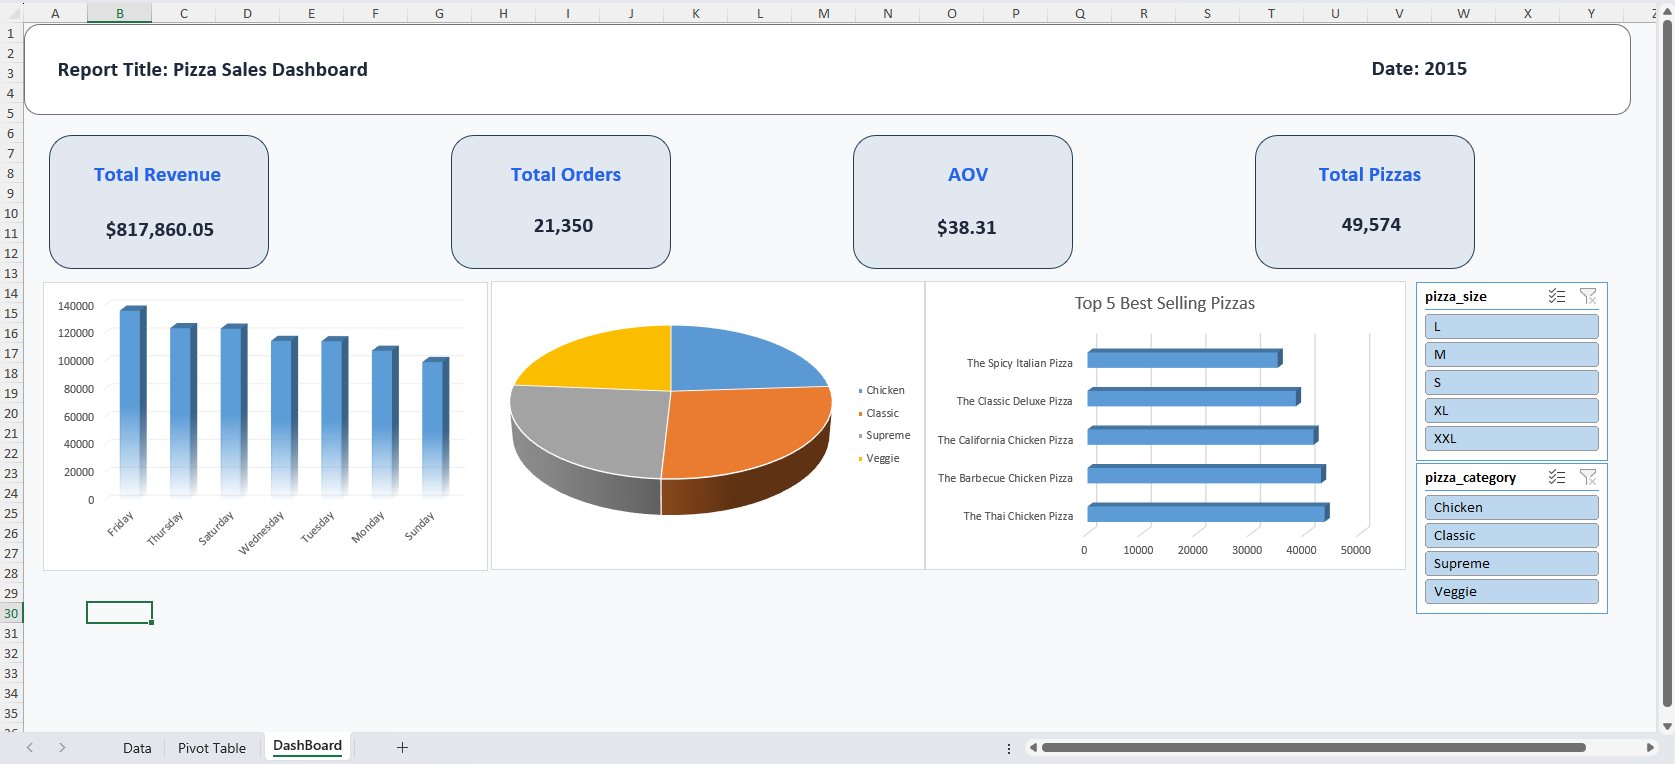

The page's visual inventory and layout, read from the dashboard file:
{"tool":"powerbi","page":{"name":"Dashboard","canvas":[1280,720],"ordinal":0},"visuals":[{"type":"shape","box":[10.3,0,1269.7,138.9],"z":0},{"type":"textbox","title":"Report Title: Pizza Sales","box":[30.9,49.4,435.2,40.1],"z":1000},{"type":"textbox","title":"Date: 2015","box":[1107.1,54.5,136.8,30.9],"z":2000},{"type":"shape","box":[30.9,138.9,238.7,149.2],"z":3000},{"type":"shape","box":[349.8,138.9,238.7,149.2],"z":4000},{"type":"shape","box":[668.8,138.9,238.7,149.2],"z":5000},{"type":"shape","box":[987.8,138.9,238.7,149.2],"z":6000},{"type":"textbox","title":"Total Revenue","box":[30.9,152.3,238.7,31.9],"z":7000},{"type":"textbox","title":"Total Orders","box":[349.8,152.3,238.7,31.9],"z":8000},{"type":"textbox","title":"Total Pizzas Sold","box":[668.8,152.3,238.7,31.9],"z":9000},{"type":"textbox","title":"AOV","box":[987.8,152.3,238.7,31.9],"z":10000},{"type":"cardVisual","fields":{"Data":["pizza_sales.Total Revenue"]},"box":[46.3,194.5,207.8,81.3],"z":11000},{"type":"cardVisual","fields":{"Data":["pizza_sales.Total Orders"]},"box":[365.3,194.5,207.8,81.3],"z":12000},{"type":"cardVisual","fields":{"Data":["pizza_sales.Total Pizzas Sold"]},"box":[684.2,194.5,207.8,81.3],"z":13000},{"type":"cardVisual","fields":{"Data":["pizza_sales.AOV"]},"box":[1003.2,194.5,207.8,81.3],"z":14000},{"type":"columnChart","fields":{"Category":["pizza_sales.order_date.Variation.Date Hierarchy.Day"],"Y":["pizza_sales.Total Revenue"]},"box":[30.6,302.9,367.2,307.1],"z":15000},{"type":"columnChart","fields":{"Y":["pizza_sales.Total Revenue"],"Category":["pizza_sales.order_date.Variation.Date Hierarchy.Month"]},"box":[397.8,302.9,367.2,307.1],"z":16000},{"type":"pieChart","fields":{"Category":["pizza_sales.pizza_size"],"Y":["pizza_sales.Total Revenue"]},"box":[765,303,515,307],"z":17000}]}

Visuals, with their boxes on the page's 1280x720 design canvas (x1, y1, x2, y2). These are canvas units, not pixel positions in the 1675x764 screenshot, which may show the page scaled, cropped or inside an application window:
shape: [10, 0, 1280, 139]
"Report Title: Pizza Sales" textbox: [31, 49, 466, 90]
"Date: 2015" textbox: [1107, 54, 1244, 85]
shape: [31, 139, 270, 288]
shape: [350, 139, 588, 288]
shape: [669, 139, 908, 288]
shape: [988, 139, 1226, 288]
"Total Revenue" textbox: [31, 152, 270, 184]
"Total Orders" textbox: [350, 152, 588, 184]
"Total Pizzas Sold" textbox: [669, 152, 908, 184]
"AOV" textbox: [988, 152, 1226, 184]
cardVisual - pizza_sales.Total Revenue: [46, 194, 254, 276]
cardVisual - pizza_sales.Total Orders: [365, 194, 573, 276]
cardVisual - pizza_sales.Total Pizzas Sold: [684, 194, 892, 276]
cardVisual - pizza_sales.AOV: [1003, 194, 1211, 276]
columnChart - pizza_sales.order_date.Variation.Date Hierarchy.Day x pizza_sales.Total Revenue: [31, 303, 398, 610]
columnChart - pizza_sales.Total Revenue x pizza_sales.order_date.Variation.Date Hierarchy.Month: [398, 303, 765, 610]
pieChart - pizza_sales.pizza_size x pizza_sales.Total Revenue: [765, 303, 1280, 610]
